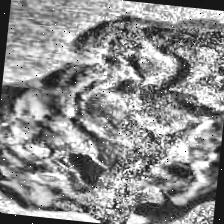disease: (0, 4, 224, 223)
